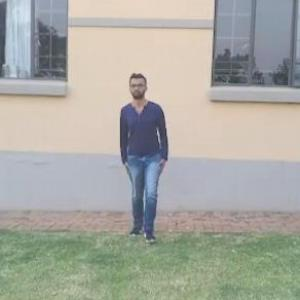follow: (110, 58, 177, 268)
